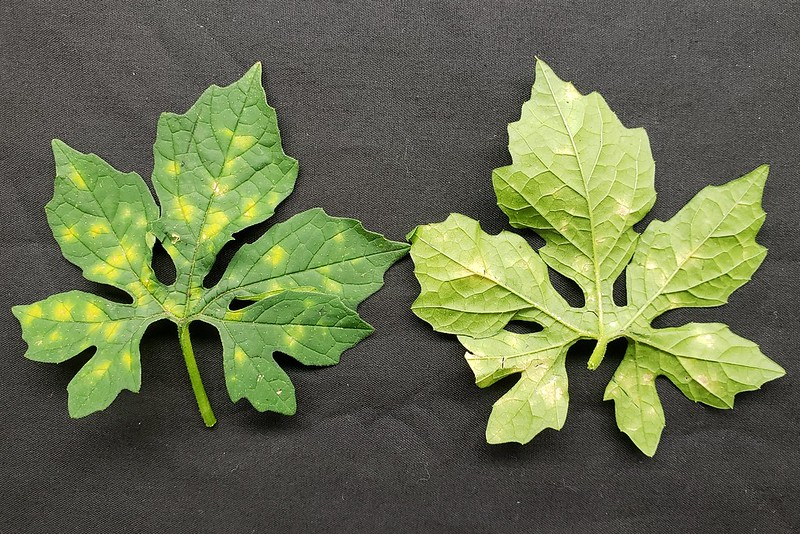BitterGround_PowderyMildew: (36, 77, 373, 452)
